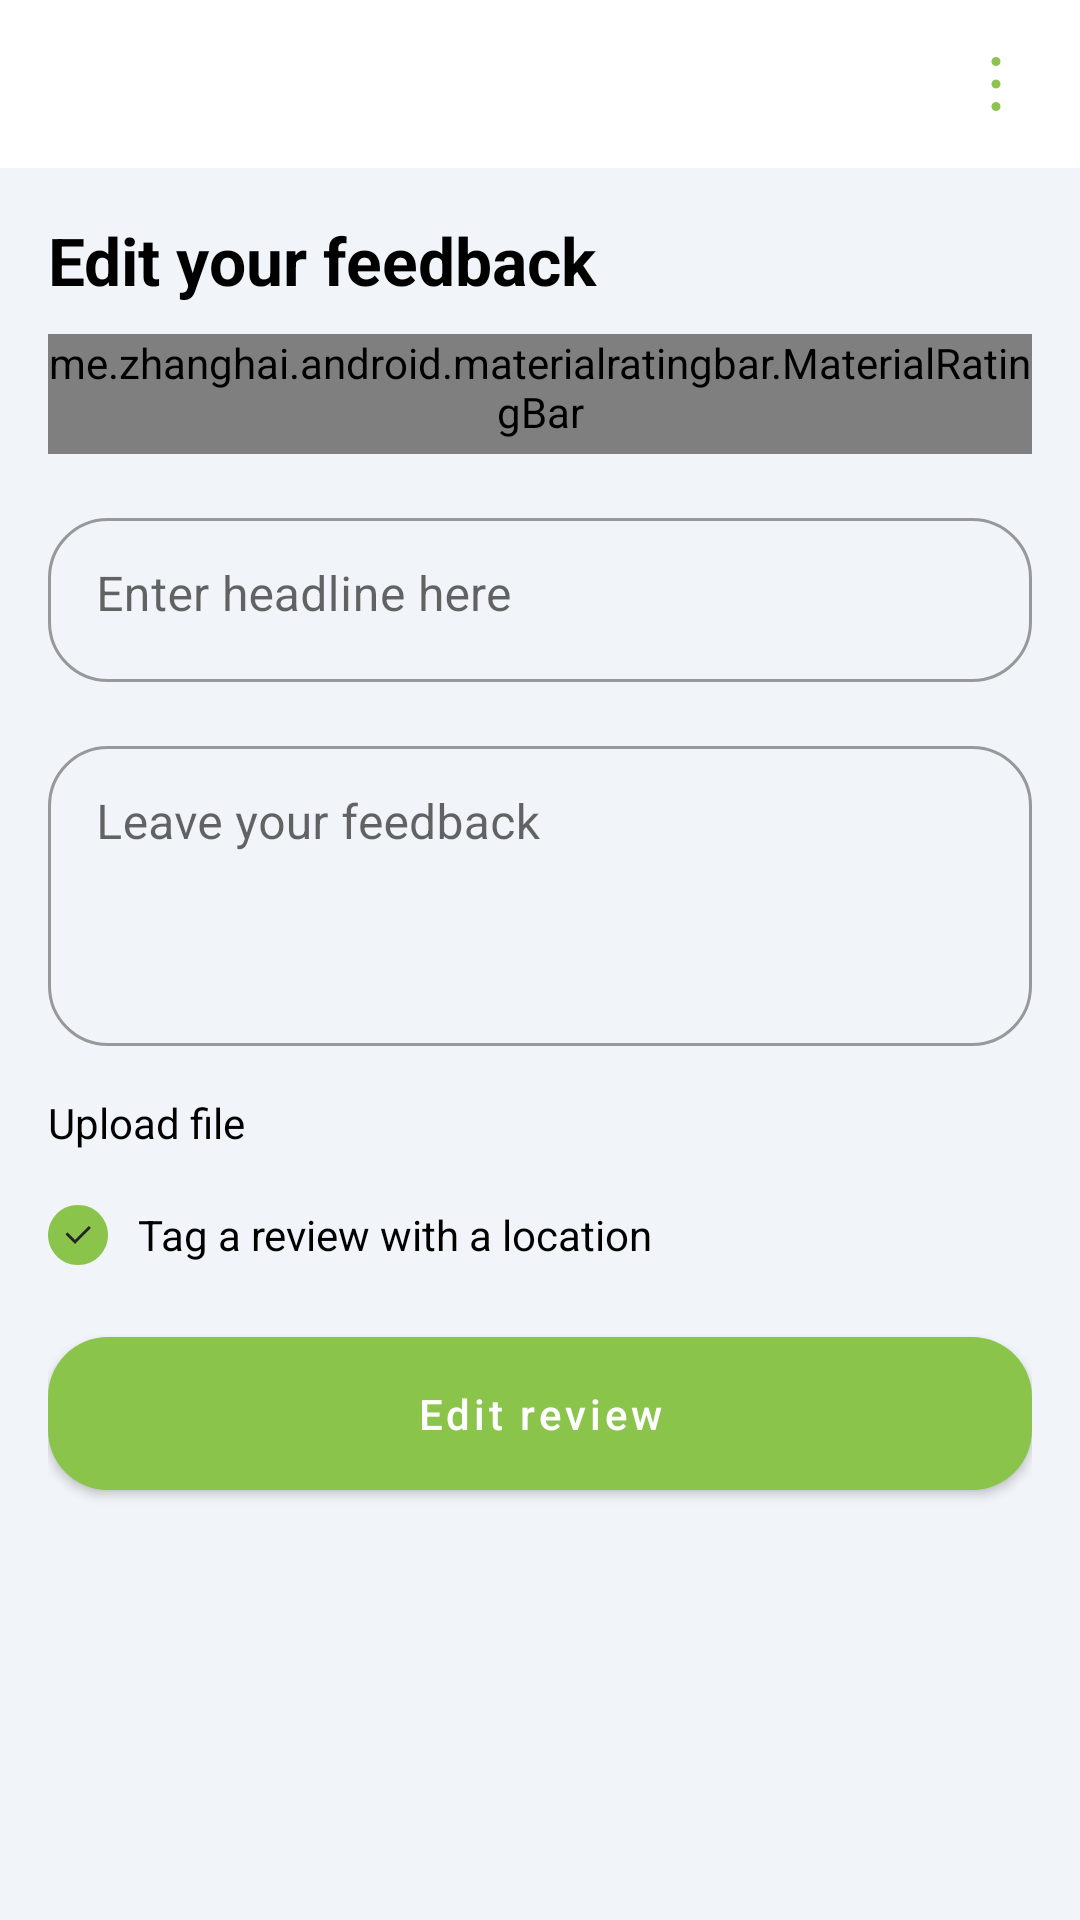

Where to tap for icons on this 1080 × 1920 app screen, as (x=x, y=y):
more line: (x=996, y=84)
